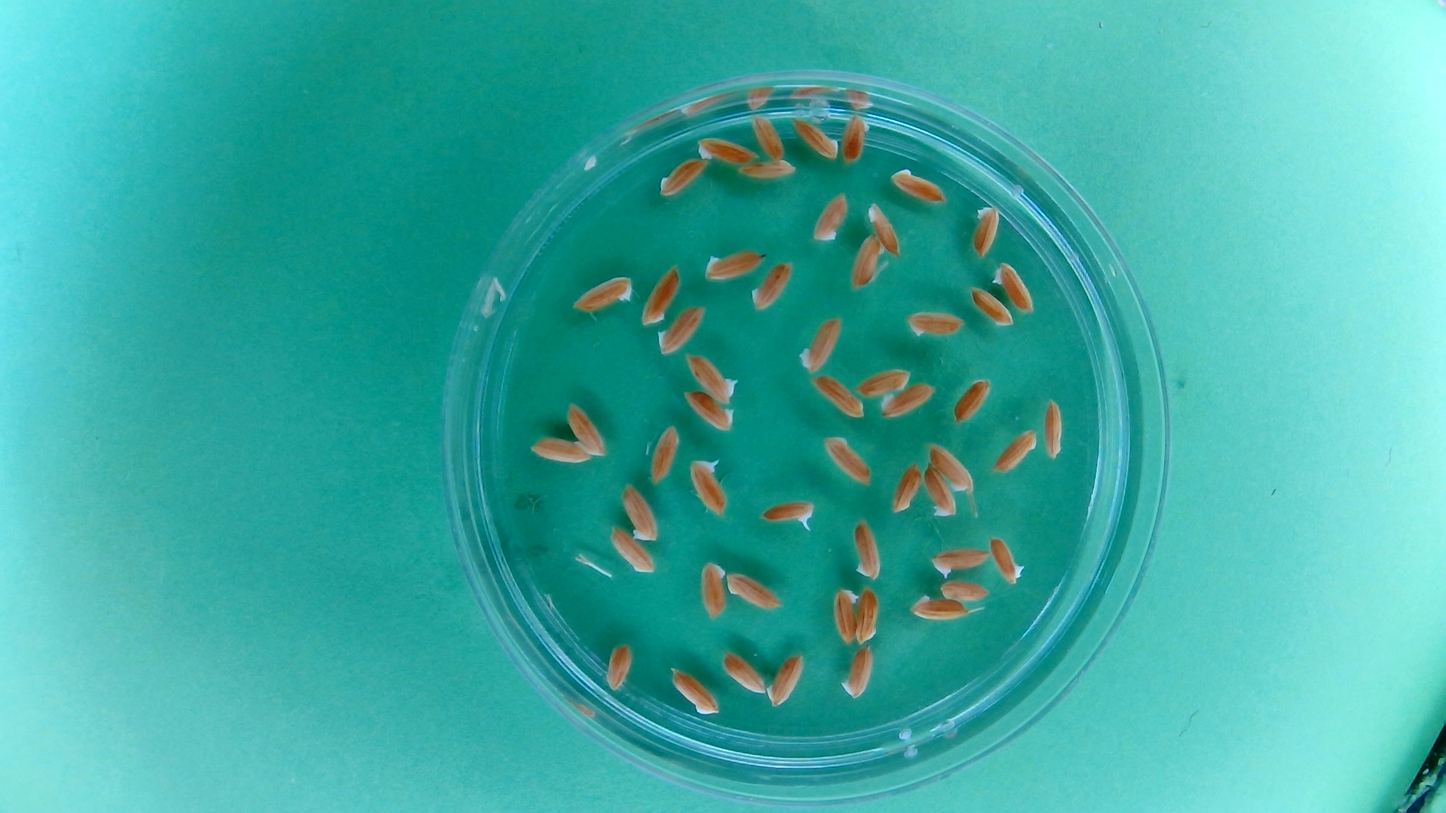no: (795, 312, 844, 375), (639, 260, 682, 330), (569, 271, 637, 315), (821, 433, 874, 488), (655, 302, 707, 358), (563, 398, 609, 458), (668, 665, 721, 717), (809, 373, 865, 422), (700, 245, 767, 285), (925, 441, 976, 493), (619, 480, 660, 544), (886, 165, 949, 206), (680, 388, 736, 434), (749, 258, 795, 314), (790, 114, 842, 163), (764, 650, 807, 709), (656, 154, 710, 200), (725, 570, 784, 612), (992, 259, 1037, 314), (990, 426, 1039, 476), (878, 381, 938, 421), (865, 199, 904, 260), (847, 231, 886, 291), (850, 515, 884, 582), (720, 648, 767, 696), (810, 190, 851, 245), (526, 435, 596, 467), (694, 132, 760, 165), (647, 422, 681, 486), (951, 375, 993, 426), (838, 644, 874, 701), (902, 308, 966, 340), (696, 559, 728, 623), (988, 534, 1027, 586), (691, 357, 738, 400), (966, 285, 1014, 327), (921, 465, 958, 519), (614, 525, 656, 572), (969, 201, 1002, 260), (854, 365, 914, 397), (749, 112, 787, 162), (909, 592, 970, 623), (889, 461, 923, 516), (839, 111, 871, 168), (602, 640, 636, 693), (830, 585, 859, 645), (734, 157, 798, 183), (855, 584, 882, 645), (1042, 396, 1066, 460), (936, 579, 990, 604)
yes: (687, 455, 728, 518), (930, 546, 989, 580), (758, 498, 816, 528)
